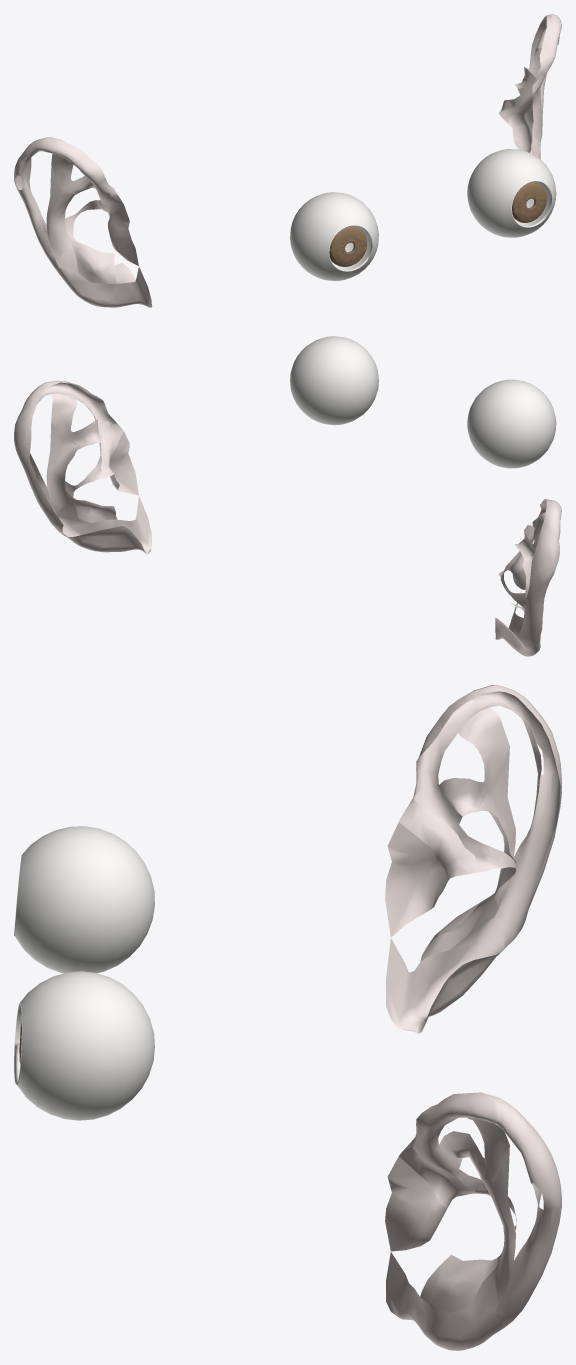
Rendered from head-features-v1.glb.
3 renders of one model, top to bottom at view 1: azimuth 30°, elevation 25°; view 2: azimuth 150°, elevation 25°; view 3: azimuth 270°, elevation 25°, orthographic. The views are drawn at different scales.
Visible parts, largest first — view 1: ear_right, eyeball_right, eyeball_left, ear_left; view 2: ear_left, eyeball_right, eyeball_left, ear_right; view 3: ear_right, ear_left, eyeball_left, eyeball_right.
Boxes of the visible parts, x1=… form: ear_right: x1=14, y1=137, x2=152, y2=307; eyeball_right: x1=290, y1=192, x2=378, y2=281; eyeball_left: x1=467, y1=149, x2=556, y2=237; ear_left: x1=499, y1=14, x2=561, y2=159; ear_left: x1=14, y1=380, x2=152, y2=554; eyeball_right: x1=467, y1=379, x2=556, y2=468; eyeball_left: x1=290, y1=336, x2=378, y2=425; ear_right: x1=495, y1=499, x2=561, y2=656; ear_right: x1=385, y1=685, x2=561, y2=1033; ear_left: x1=385, y1=1092, x2=561, y2=1350; eyeball_left: x1=14, y1=971, x2=154, y2=1120; eyeball_right: x1=14, y1=826, x2=154, y2=973.
Size of the model in its own units: 0.1867 by 0.0558 by 0.0975.
